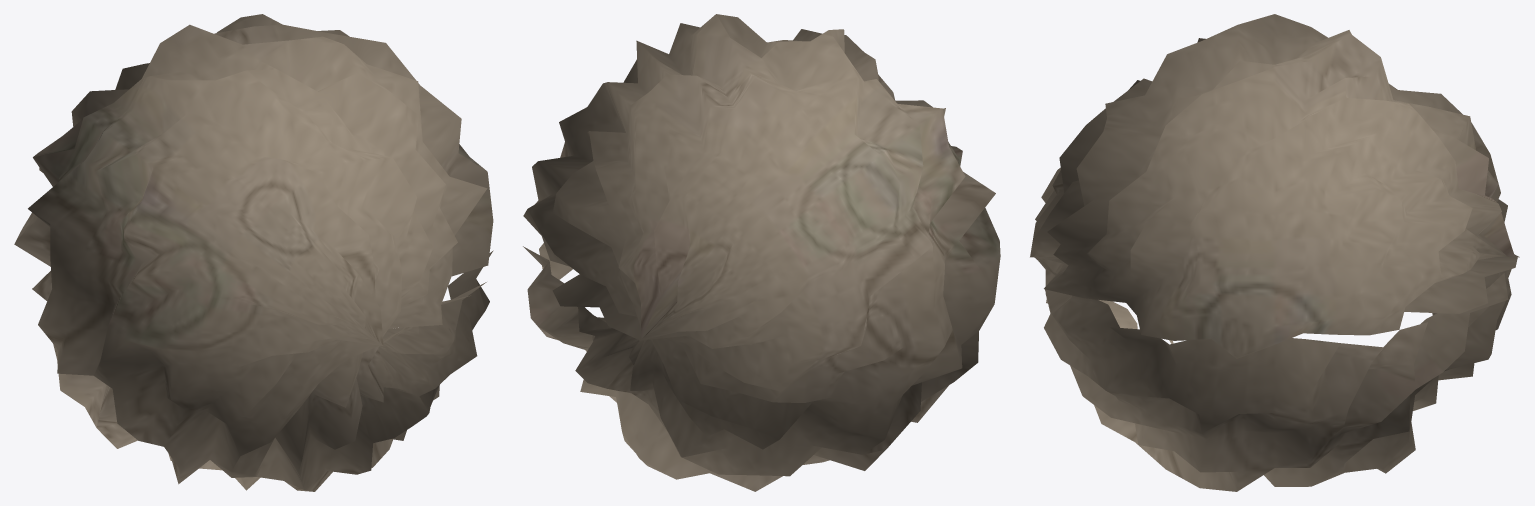
File: deimos.glb
The picture shows the model from 3 angles, left to right: view 1: azimuth 30°, elevation 25°; view 2: azimuth 150°, elevation 25°; view 3: azimuth 270°, elevation 25°; orthographic projection.
Size of the model in its own units: 2.15 by 2.11 by 2.24.
1 material, 1 textured.
